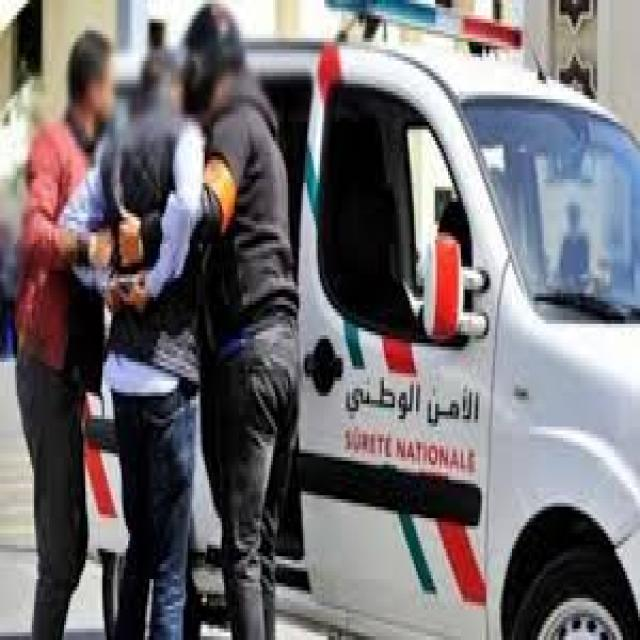police: (294, 4, 638, 640)
